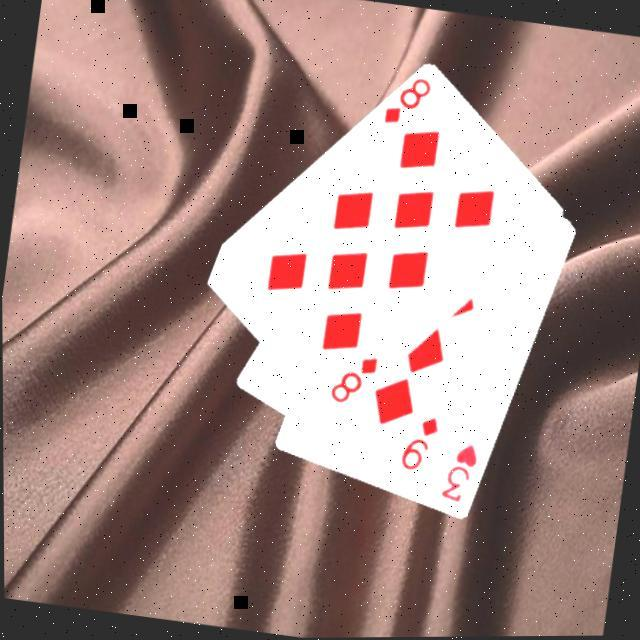3H: (434, 438, 482, 508)
8D: (323, 348, 380, 412), (378, 70, 435, 132)
9D: (395, 410, 442, 477)
